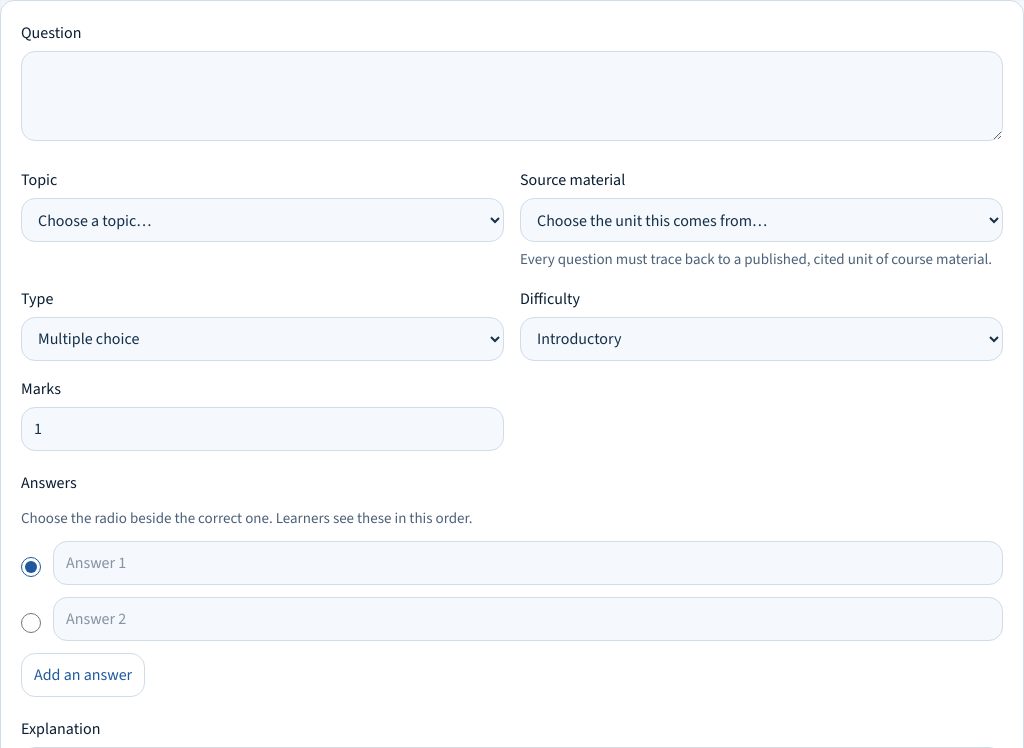
Test case: writing a multiple-choice question › moves the correct mark to whichever answer the lecturer chooses
Click the radio button named "Answer 2 is correct" at x=31, y=623, box [21,613,41,633]
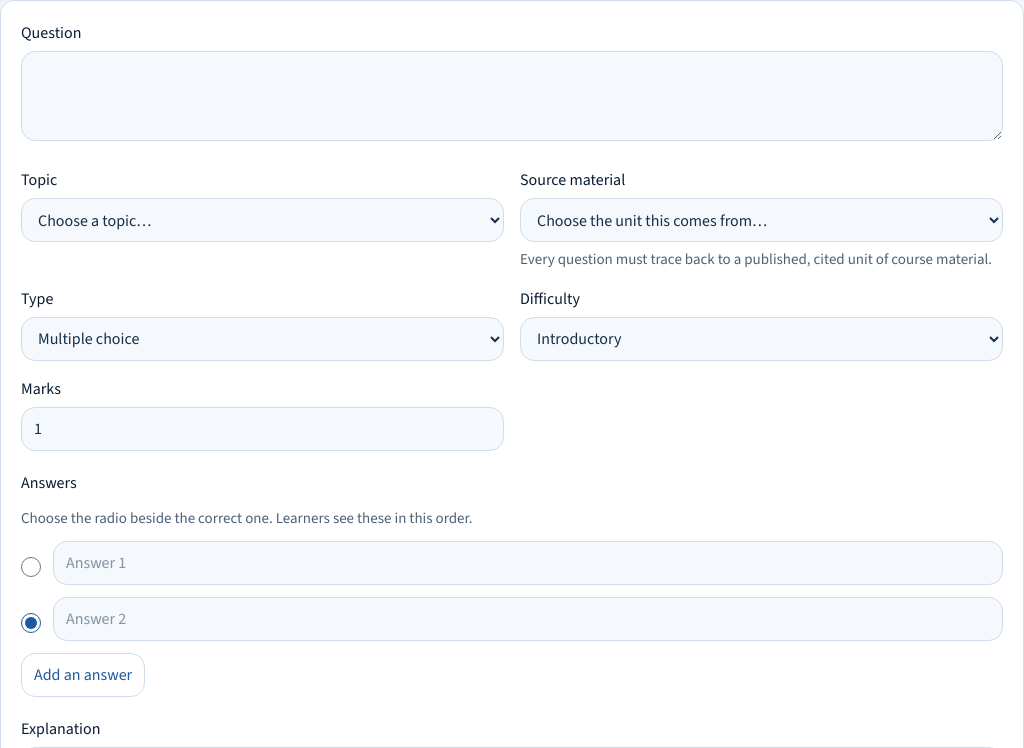
Expected: the radio button named "Answer 2 is correct" is checked, [21,613,41,633]
Expected: the radio button named "Answer 1 is correct" is not checked, [21,557,41,577]
